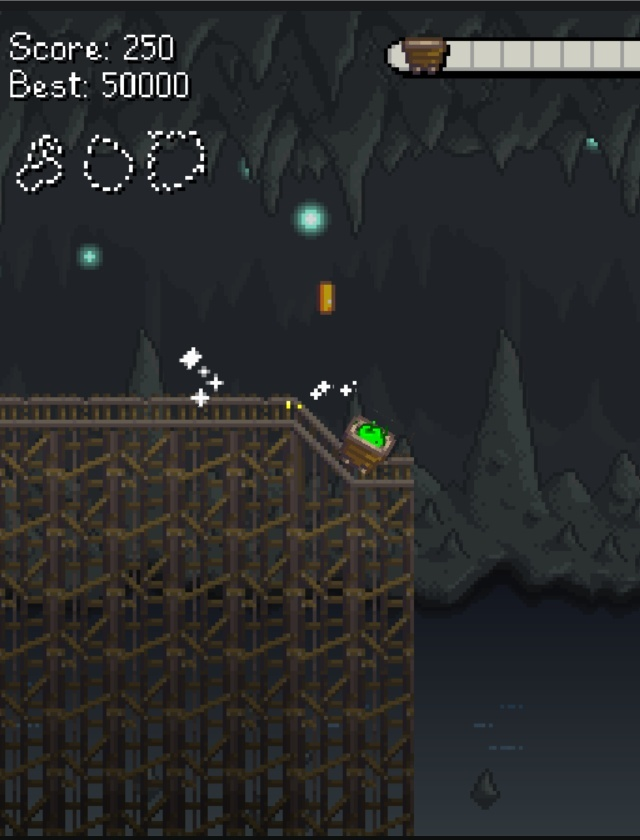minecart: (340, 415, 394, 473)
tracks: (0, 388, 431, 493)
